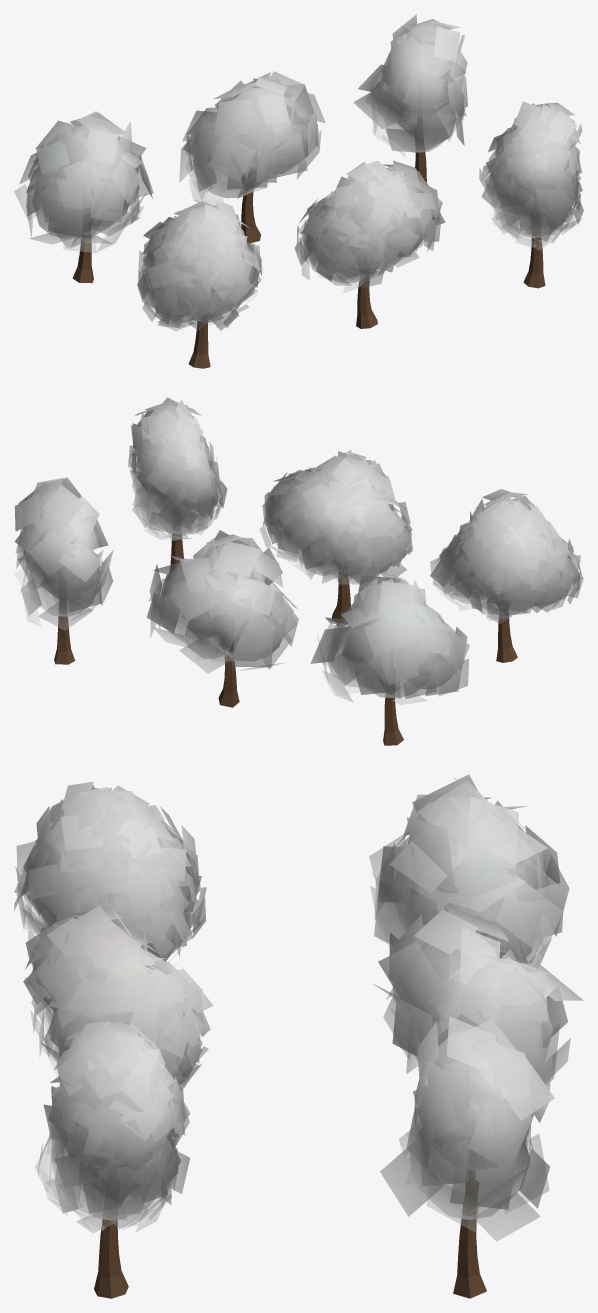
File: trees.glb
The picture shows the model from 3 angles, top to bottom: view 1: azimuth 30°, elevation 25°; view 2: azimuth 150°, elevation 25°; view 3: azimuth 270°, elevation 25°; orthographic projection. The views are drawn at different scales.
Parts seen in each view (by area): view 1: Tree_B, Tree_A_Far, Tree_B_Far, Tree_A, Tree_C, Tree_C_Far; view 2: Tree_B_Far, Tree_B, Tree_A_Far, Tree_A, Tree_C_Far, Tree_C; view 3: Tree_C_Far, Tree_C, Tree_A_Far, Tree_A, Tree_B_Far, Tree_B.
Part boxes in pixels (x1,y1,x2,y2): Tree_B: (294,160,445,328); Tree_A_Far: (14,111,153,283); Tree_B_Far: (179,71,325,243); Tree_A: (137,200,262,368); Tree_C: (479,101,583,288); Tree_C_Far: (353,14,467,182); Tree_B_Far: (146,530,298,707); Tree_B: (259,450,412,622); Tree_A_Far: (310,574,469,745); Tree_A: (430,489,583,662); Tree_C_Far: (14,477,113,664); Tree_C: (128,397,227,572); Tree_C_Far: (380,1009,554,1298); Tree_C: (35,1011,190,1298); Tree_A_Far: (369,774,569,963); Tree_A: (14,781,206,961); Tree_B_Far: (373,905,583,1090); Tree_B: (23,905,213,1088).
Size of the model in its own units: 13.4 by 5.25 by 9.54.
